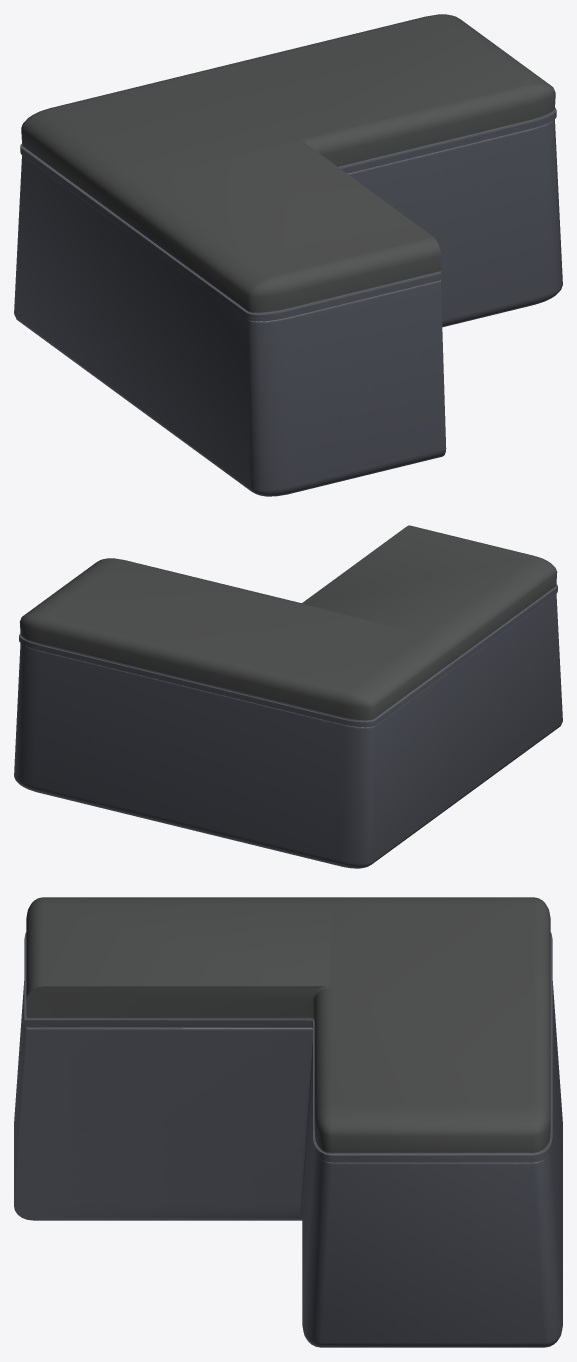
Rendered from Chair5.fbx.
The picture shows the model from 3 angles, top to bottom: view 1: azimuth 30°, elevation 25°; view 2: azimuth 150°, elevation 25°; view 3: azimuth 270°, elevation 25°; orthographic projection. The views are drawn at different scales.
Parts seen in each view (by area): view 1: Chair5; view 2: Chair5; view 3: Chair5.
Part boxes in pixels (left/top/right/bottom): Chair5: left=14, top=14, right=562, bottom=496; Chair5: left=14, top=525, right=562, bottom=868; Chair5: left=14, top=897, right=562, bottom=1347.
Bounding box in the file's own units: 462 × 214 × 454.
